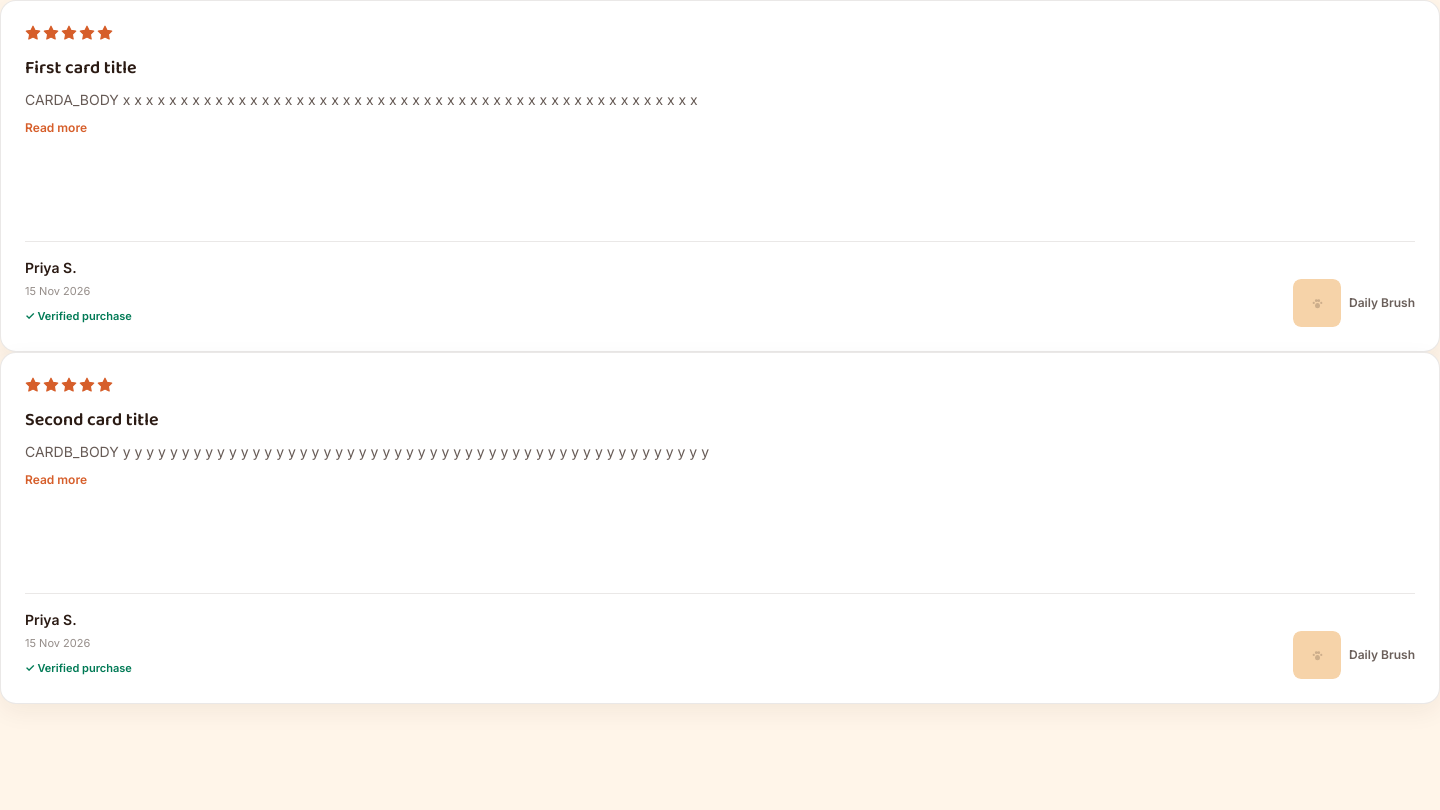
Scenario: ReviewCard — Read more › 14. two cards each open their own review, not another card's
The width and height of the screenshot is (1440, 810).
Click the button "Read more" below "Second card title": (56, 480) [25,472,87,488]
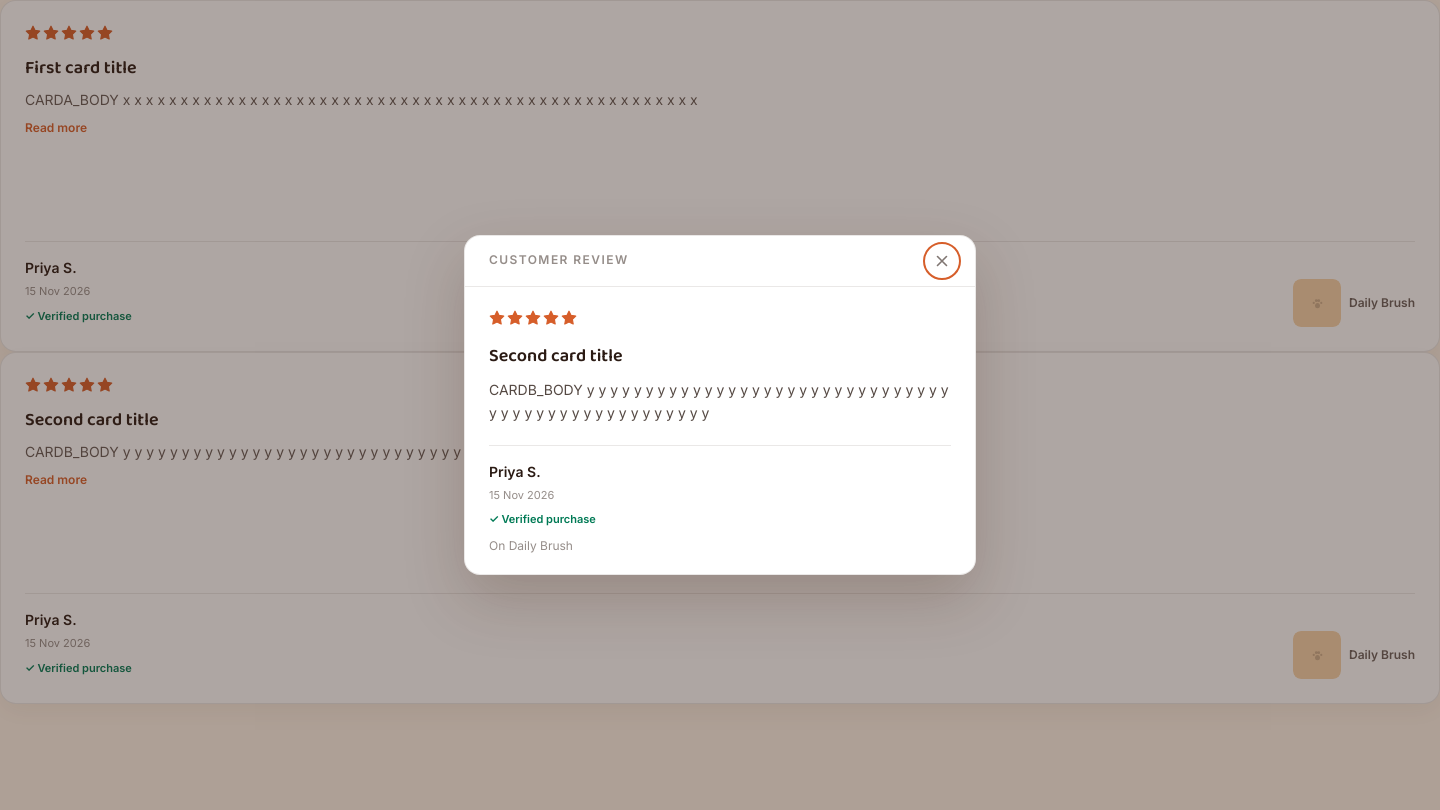
Result: the text "CARDB_BODY" below "Customer review" is shown at [489,381,949,421]
Result: the heading "Second card title" below "Customer review" is shown at [489,342,623,370]
